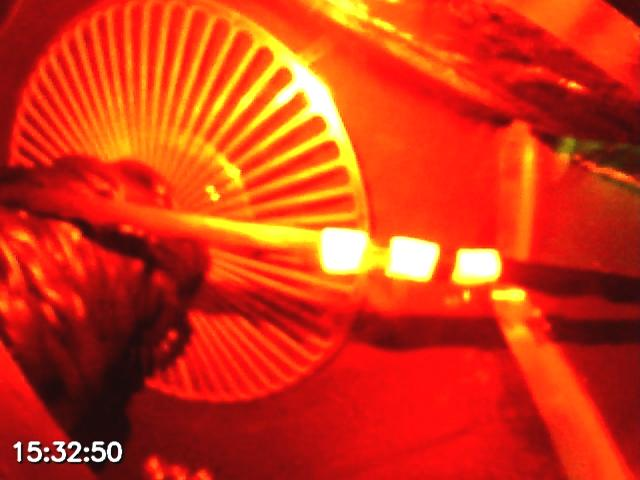white-dots: (318, 225, 503, 285)
